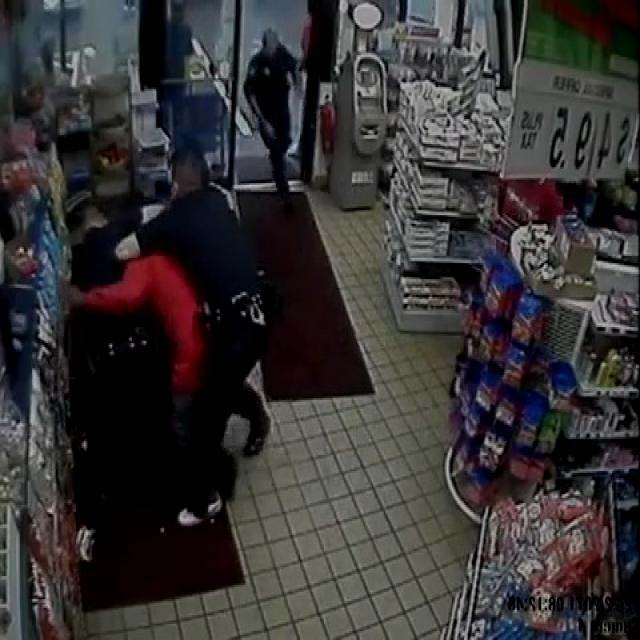fight: (66, 198, 196, 566)
